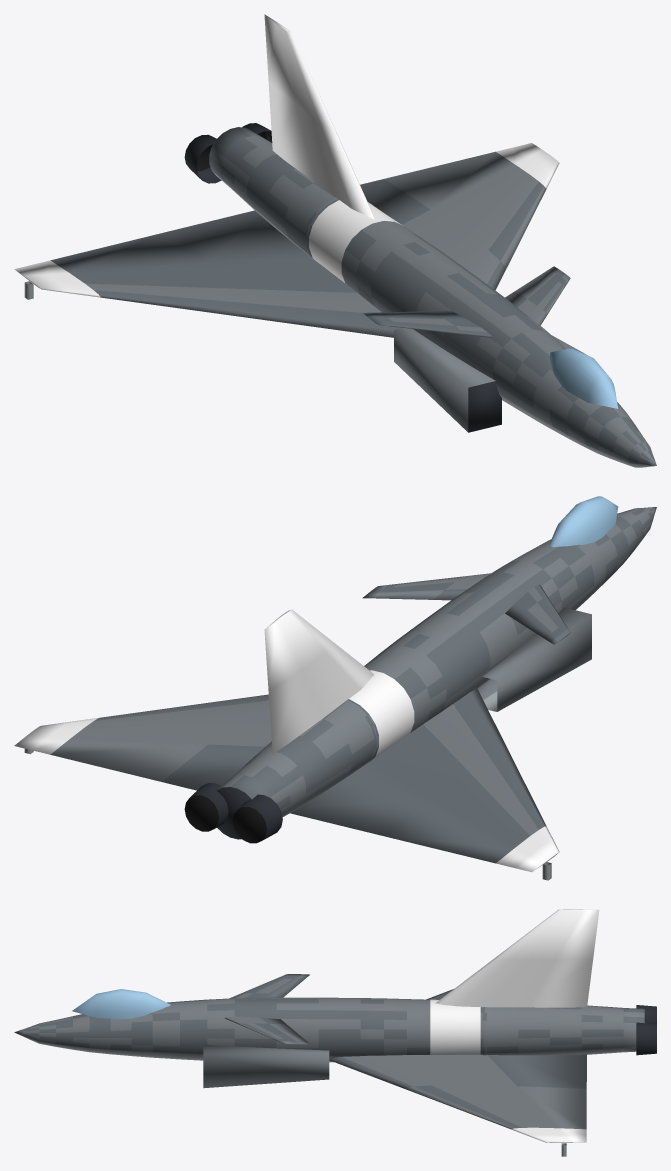
File: rafale_c.glb
The picture shows the model from 3 angles, top to bottom: view 1: azimuth 30°, elevation 25°; view 2: azimuth 150°, elevation 25°; view 3: azimuth 270°, elevation 25°; orthographic projection. The views are drawn at different scales.
Visible parts, largest first — view 1: body; view 2: body; view 3: body.
Part boxes in pixels (x1,y1,x2,y2): body: [14, 14, 656, 467]; body: [14, 496, 656, 880]; body: [14, 909, 656, 1156].
Size of the model in its own units: 10.92 by 4.17 by 15.57.
